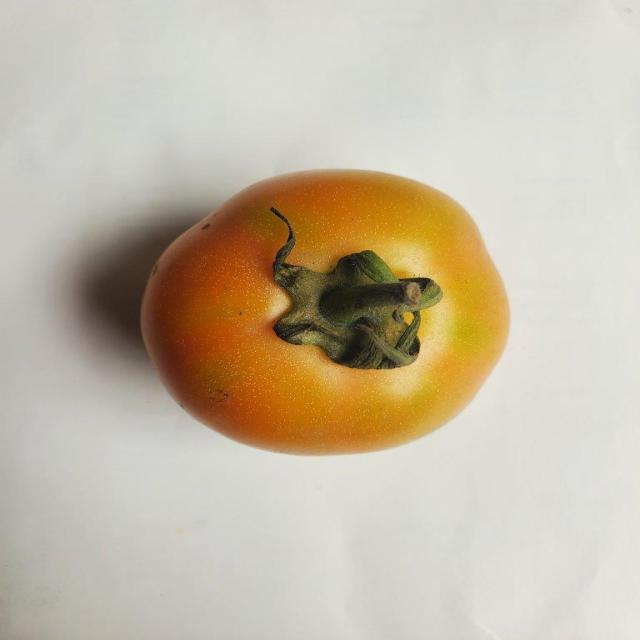Tomato: (145, 165, 511, 458)
